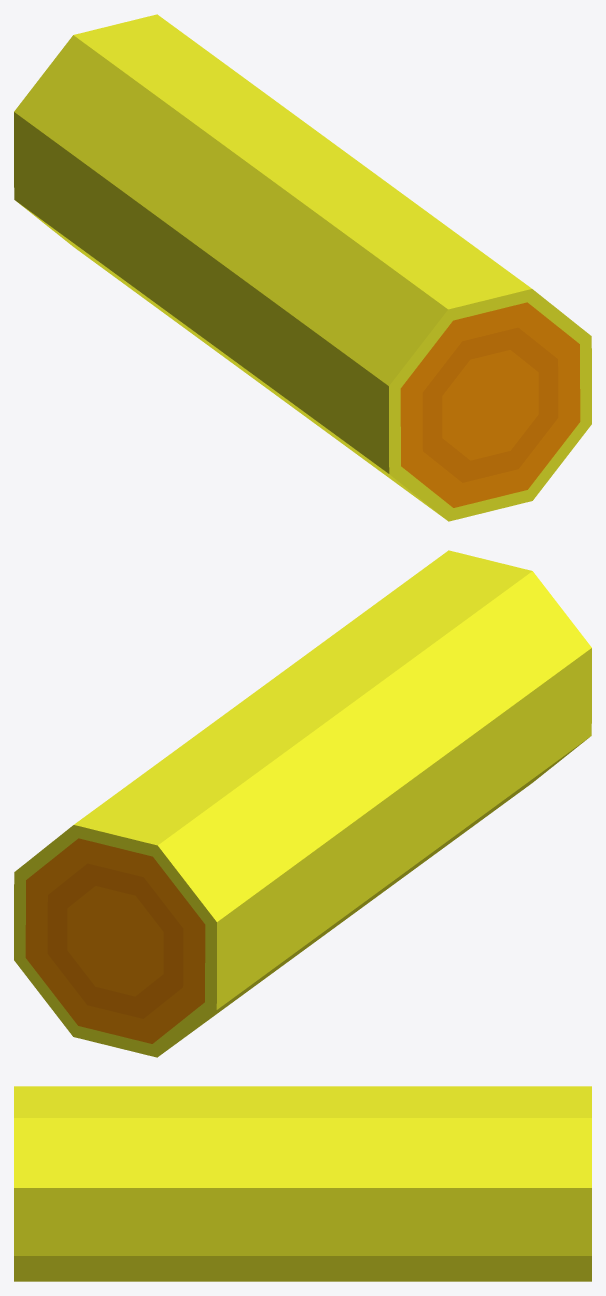
The model's file is Small Log_17.fbx.
The picture shows the model from 3 angles, top to bottom: view 1: azimuth 30°, elevation 25°; view 2: azimuth 150°, elevation 25°; view 3: azimuth 270°, elevation 25°; orthographic projection. The views are drawn at different scales.
Parts seen in each view (by area): view 1: Circle.340; view 2: Circle.340; view 3: Circle.340.
Part boxes in pixels (<box>): Circle.340: <box>14,14,591,521</box>; Circle.340: <box>14,550,591,1057</box>; Circle.340: <box>14,1086,591,1281</box>.
Bounding box in the file's own units: 7.36 × 7.36 × 23.54.
